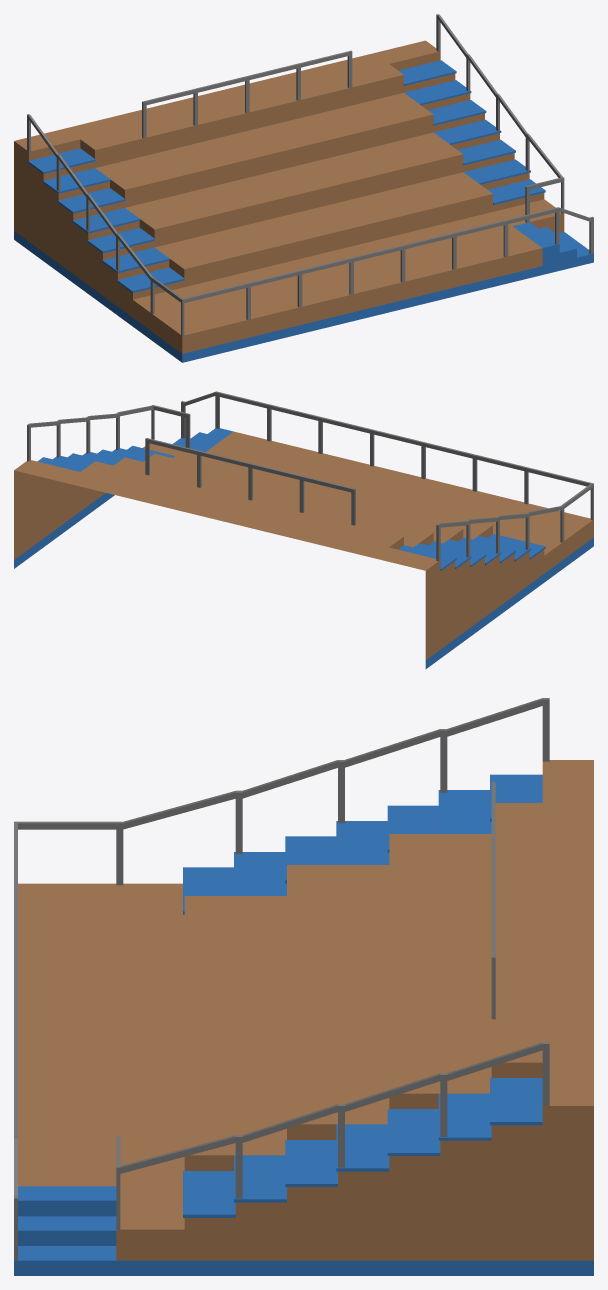
Rendered from Int_GymTribune01.fbx.
3 renders of one model, top to bottom at view 1: azimuth 30°, elevation 25°; view 2: azimuth 150°, elevation 25°; view 3: azimuth 270°, elevation 25°, orthographic. The views are drawn at different scales.
Parts seen in each view (by area): view 1: Int_GymTribune01; view 2: Int_GymTribune01; view 3: Int_GymTribune01.
Part boxes in pixels (left/top/right/bottom): Int_GymTribune01: left=14, top=14, right=593, bottom=362; Int_GymTribune01: left=14, top=391, right=593, bottom=668; Int_GymTribune01: left=14, top=698, right=593, bottom=1275.
Size of what is drawn, in the model's own units: 1205 by 850 by 375.
